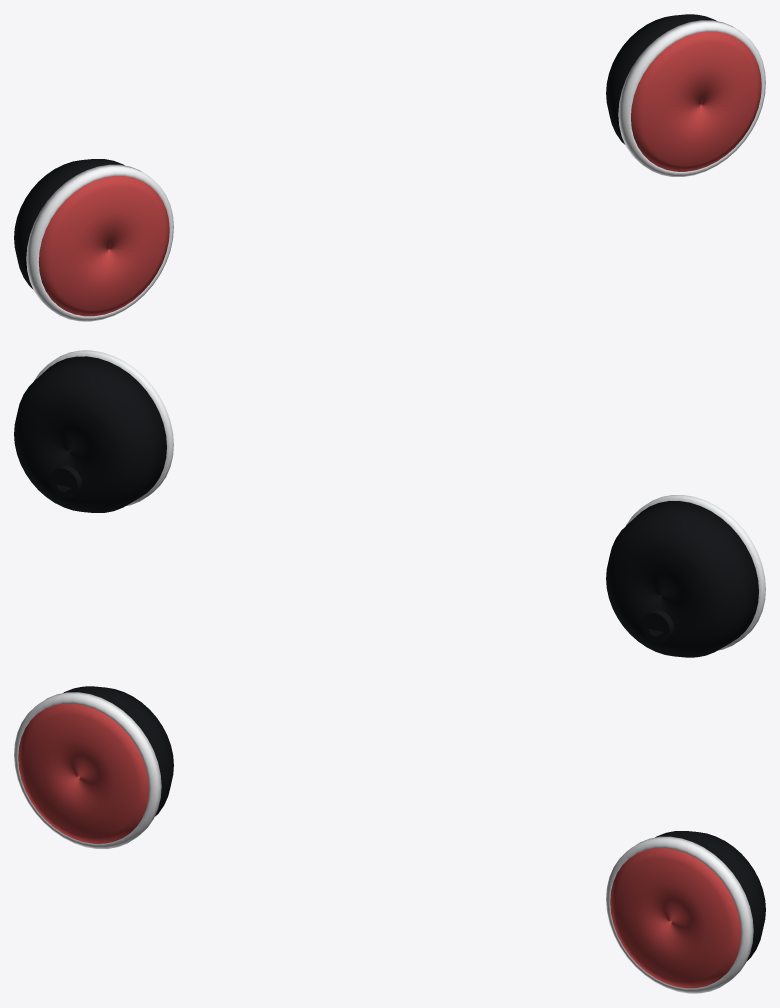
File: DL02_rally_lamps_covered.glb
3 renders of one model, top to bottom at view 1: azimuth 30°, elevation 25°; view 2: azimuth 150°, elevation 25°; view 3: azimuth 330°, elevation 25°, orthographic.
Parts seen in each view (by area): view 1: MOD_NB_DL02_cover_R, MOD_NB_DL02_cover_L, MOD_NB_DL02_bezel_R, MOD_NB_DL02_bezel_L, MOD_NB_DL02_housing_L, MOD_NB_DL02_housing_R; view 2: MOD_NB_DL02_housing_R, MOD_NB_DL02_housing_L, MOD_NB_DL02_bezel_L, MOD_NB_DL02_bezel_R, MOD_NB_DL02_foot_L, MOD_NB_DL02_foot_R; view 3: MOD_NB_DL02_cover_L, MOD_NB_DL02_cover_R, MOD_NB_DL02_bezel_L, MOD_NB_DL02_bezel_R, MOD_NB_DL02_housing_R, MOD_NB_DL02_housing_L.
Boxes of the visible parts, x1,y1,x2,y2 form: MOD_NB_DL02_cover_R: [38, 176, 169, 316]; MOD_NB_DL02_cover_L: [631, 31, 761, 171]; MOD_NB_DL02_bezel_R: [26, 164, 173, 321]; MOD_NB_DL02_bezel_L: [618, 20, 765, 176]; MOD_NB_DL02_housing_L: [606, 14, 716, 144]; MOD_NB_DL02_housing_R: [14, 159, 124, 289]; MOD_NB_DL02_housing_R: [606, 501, 758, 657]; MOD_NB_DL02_housing_L: [14, 356, 166, 512]; MOD_NB_DL02_bezel_L: [34, 350, 173, 505]; MOD_NB_DL02_bezel_R: [626, 495, 765, 650]; MOD_NB_DL02_foot_L: [49, 465, 82, 498]; MOD_NB_DL02_foot_R: [641, 609, 674, 643]; MOD_NB_DL02_cover_L: [610, 848, 741, 988]; MOD_NB_DL02_cover_R: [18, 703, 148, 843]; MOD_NB_DL02_bezel_L: [606, 836, 753, 993]; MOD_NB_DL02_bezel_R: [14, 692, 161, 848]; MOD_NB_DL02_housing_R: [63, 686, 173, 816]; MOD_NB_DL02_housing_L: [655, 831, 765, 961].
Bounding box in the file's own units: 0.82 × 0.16 × 0.0914.
